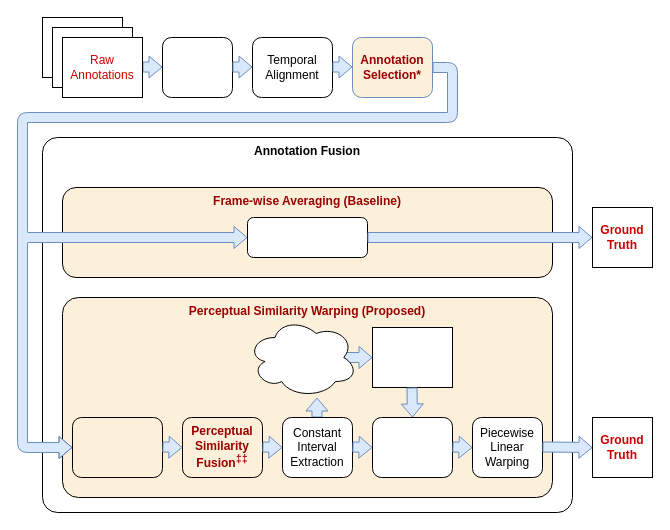
The diagram is 670 pixels wide and 530 high, and some of its shapes have lost their labels. The shapes that lost their labels are listed below. From the top down, each one's centre as x and y in pixels, then its label:
At [197,67]: "Clean Up".
At [307,237]: "Frame-wise Averaging".
At [302,357]: "Crowd-sourced Comparison".
At [412,357]: "Tuple Comparisons".
At [117,447]: "Perceptual Similarity Regression ††".
At [412,447]: "Ordinal Embedding".
